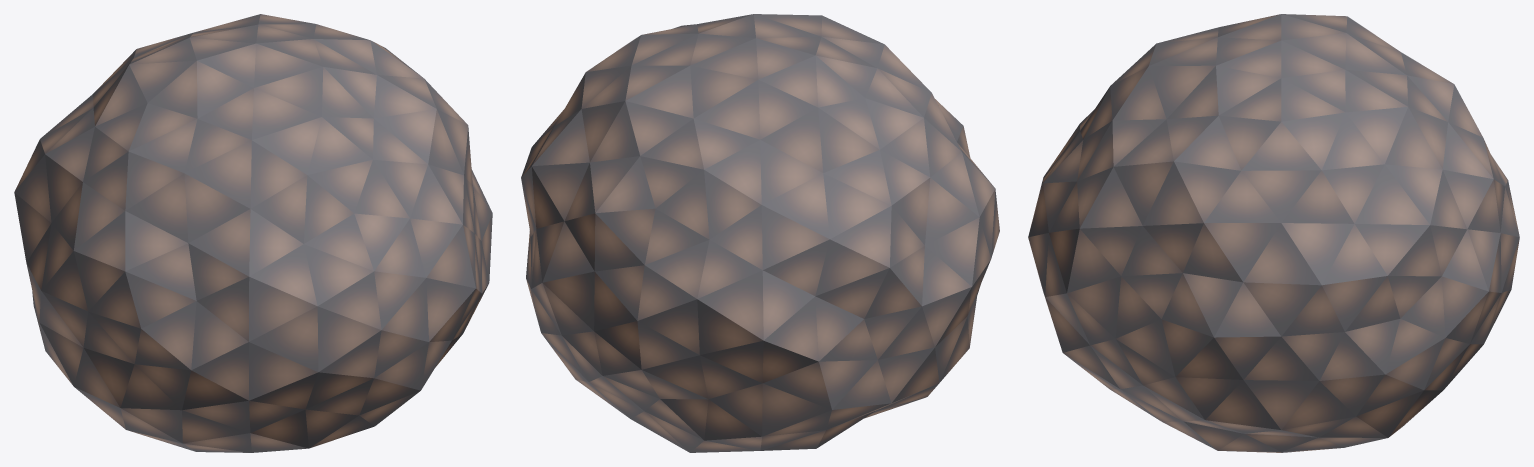
Rendered from mastery-node.glb.
3 renders of one model, left to right at view 1: azimuth 30°, elevation 25°; view 2: azimuth 150°, elevation 25°; view 3: azimuth 270°, elevation 25°, orthographic.
Visible parts, largest first — view 1: node; view 2: node; view 3: node.
Part boxes in pixels (left/top/right/bottom): node: left=14, top=14, right=492, bottom=452; node: left=521, top=14, right=999, bottom=452; node: left=1028, top=14, right=1519, bottom=452.
Size of the model in its own units: 0.9626 by 0.8371 by 0.9708.
Materials: 1 (1 with a texture image).
